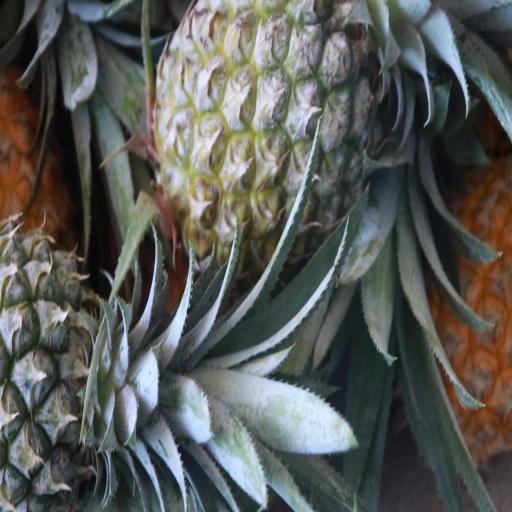------------------------------: (153, 0, 380, 268)
